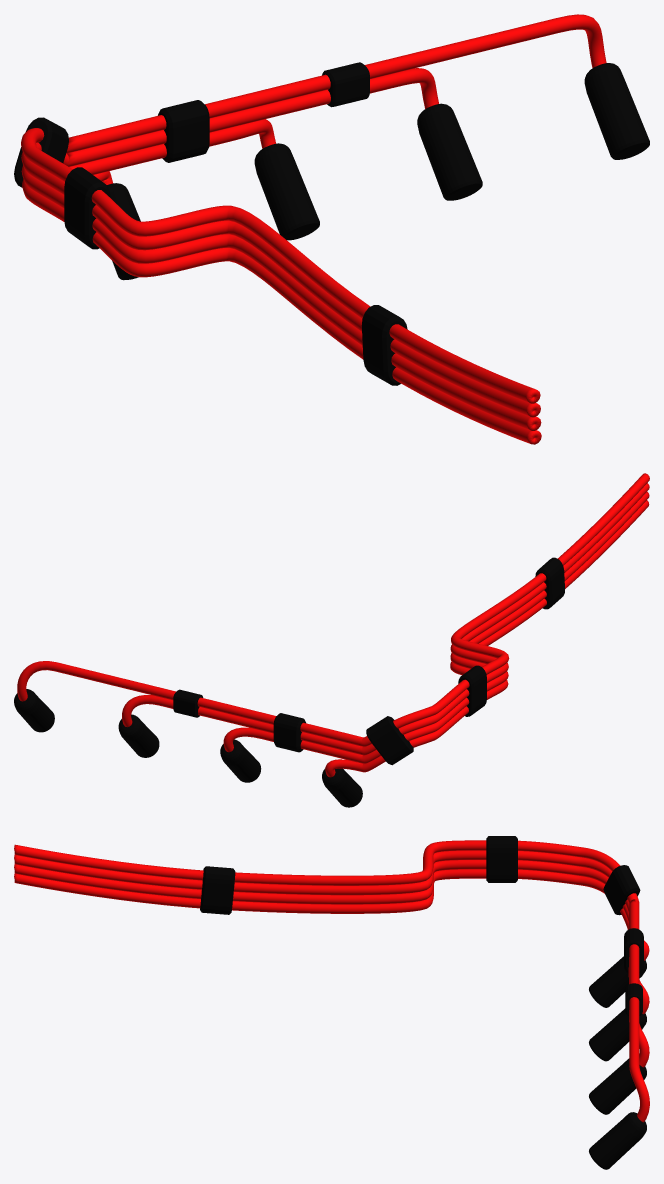
File: wires_sparkPlugs-1.obj
The picture shows the model from 3 angles, top to bottom: view 1: azimuth 30°, elevation 25°; view 2: azimuth 150°, elevation 25°; view 3: azimuth 270°, elevation 25°; orthographic projection. The views are drawn at different scales.
Parts seen in each view (by area): view 1: BezierCurve.004, Cylinder.008, Cylinder, Cylinder.006, Cube.012, Cube.013, Cube.018, Cube.011, Cube.014, Cylinder.009; view 2: BezierCurve.004, Cube.014, Cylinder, Cylinder.008, Cylinder.006, Cylinder.009, Cube.012, Cube.018, Cube.013, Cube.011; view 3: BezierCurve.004, Cylinder, Cube.018, Cube.013, Cylinder.008, Cylinder.006, Cylinder.009, Cube.014, Cube.012.
Boxes of the visible parts, x1,y1,x2,y2 form: BezierCurve.004: (21, 14, 606, 444); Cylinder.008: (417, 103, 482, 200); Cylinder: (584, 63, 649, 159); Cylinder.006: (254, 143, 319, 240); Cube.012: (158, 100, 209, 162); Cube.013: (64, 167, 110, 249); Cube.018: (361, 305, 407, 385); Cube.011: (322, 62, 369, 107); Cube.014: (14, 117, 68, 187); Cylinder.009: (107, 183, 140, 280); BezierCurve.004: (17, 473, 649, 777); Cube.014: (366, 716, 413, 765); Cylinder: (14, 689, 54, 732); Cylinder.008: (118, 714, 159, 757); Cylinder.006: (220, 739, 261, 782); Cylinder.009: (322, 768, 362, 807); Cube.012: (273, 713, 305, 752); Cube.018: (535, 557, 564, 609); Cube.013: (458, 665, 486, 716); Cube.011: (173, 689, 203, 717); BezierCurve.004: (14, 840, 649, 1122); Cylinder: (589, 1112, 646, 1169); Cube.018: (200, 866, 235, 914); Cube.013: (486, 836, 517, 882); Cylinder.008: (589, 1058, 646, 1114); Cylinder.006: (589, 1008, 646, 1061); Cylinder.009: (589, 956, 646, 1007); Cube.014: (603, 865, 640, 915); Cube.012: (624, 928, 643, 972).
Size of the model in its own units: 0.3457 by 0.1128 by 0.4374.
